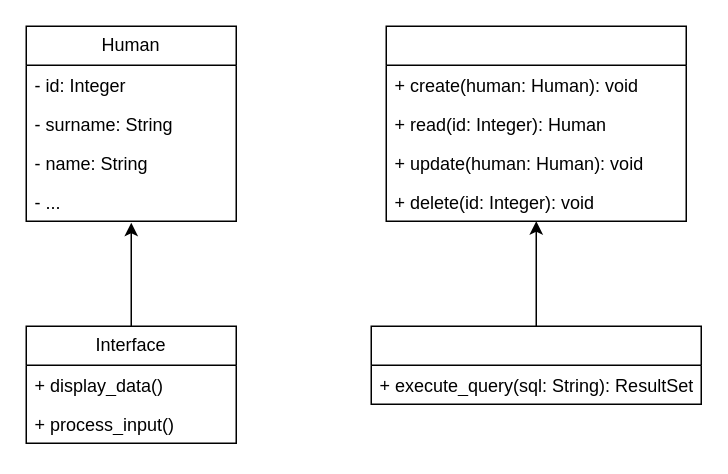
Some shapes in this 728 by 474 pixel diagram are drawn without their labels. The shapes that lost their labels are listed below. From the top down, each one's box as (x1, y1, x2, y2) in pixels, then its label:
(385, 25, 686, 221): HumanDAO
(370, 325, 701, 404): SQLiteDB
